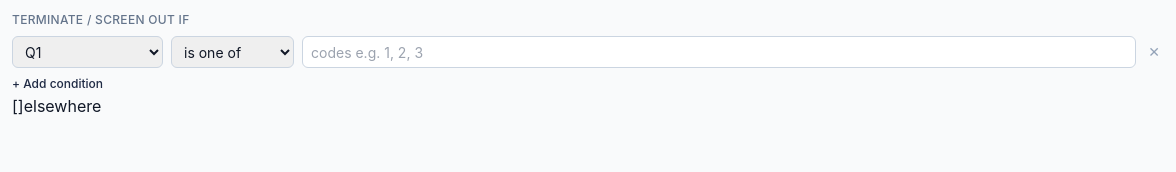
it: codes box › keeps every comma while a multi-code screen-out is typed
Click the field named "condition values".
click(719, 52)  # box [302,36,1136,68]
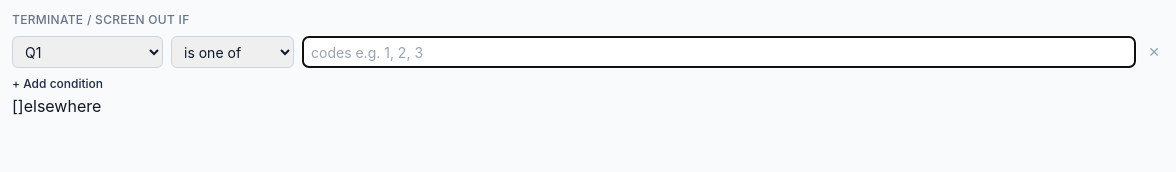
Type keys "1,3,98"
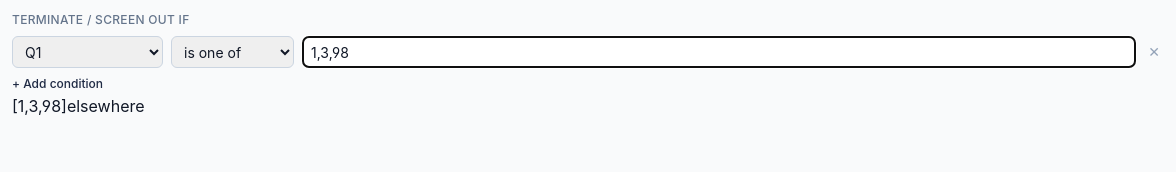
Expected: the field named "condition values" holds "1,3,98", [302,36,1136,68]
Expected: the text with test id "parsed" reads "[1,3,98]", [12,96,67,116]
